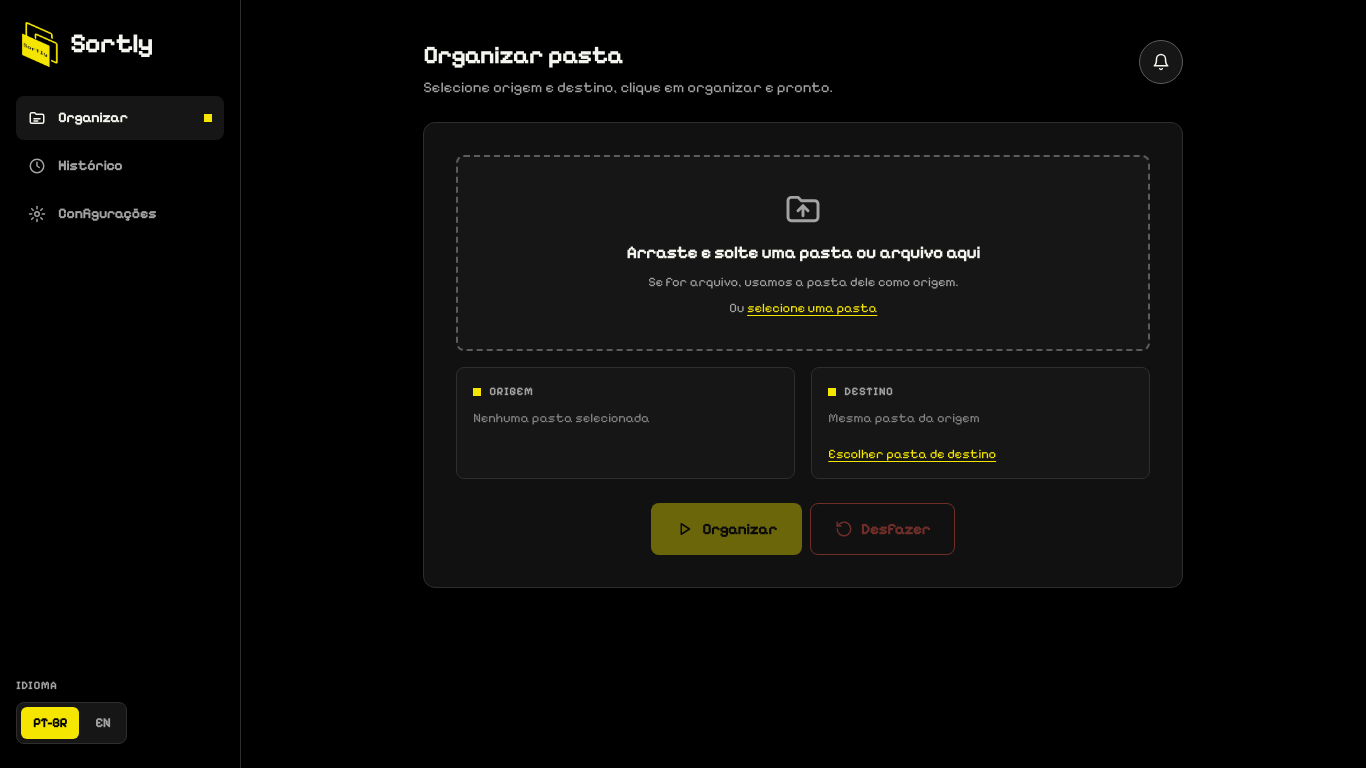
Test: OrganizerView › o sino abre o painel; trocar de página o fecha
Click the button named "Notificações" at (1161, 62), box [1139,40,1183,84]
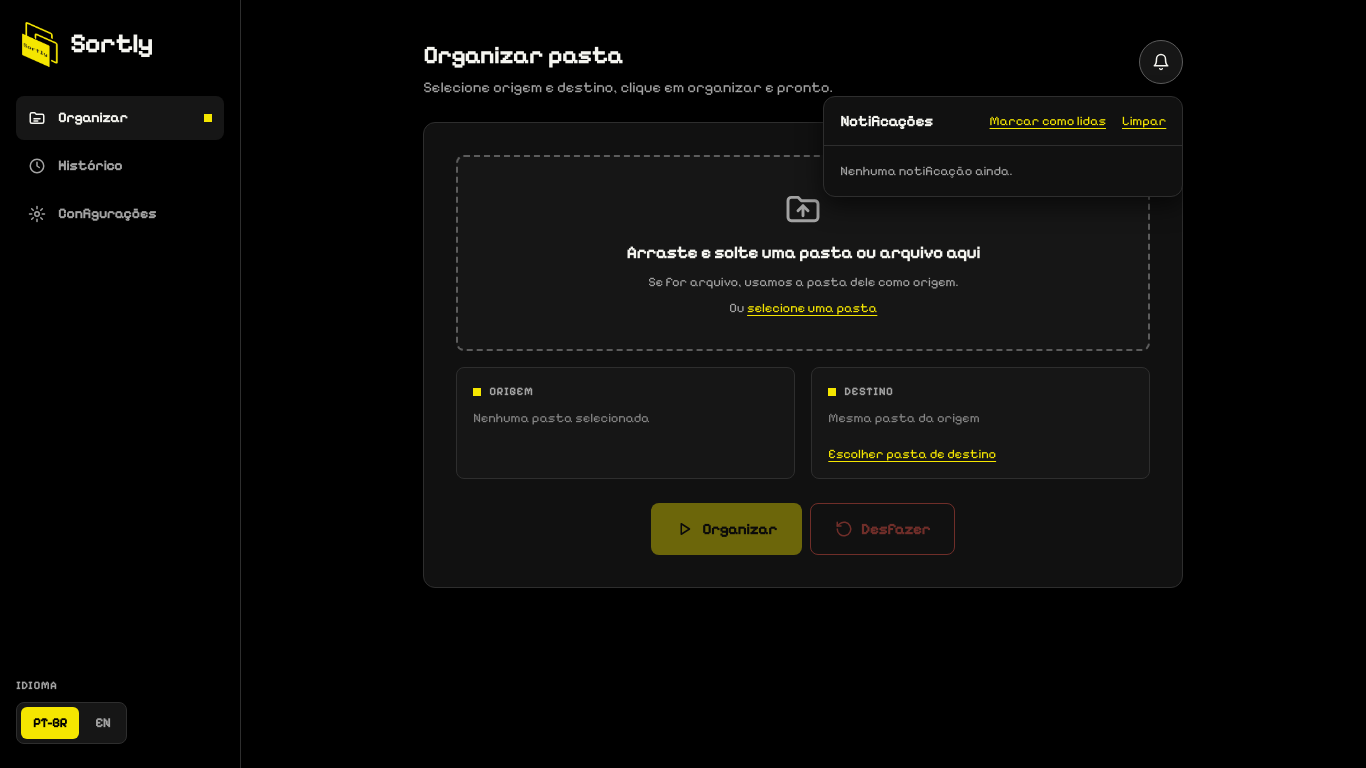
Check: the dialog "Notificações" is shown, box [823,96,1183,197]
Click the button "Configurações" at (120, 214), box [16,192,224,236]
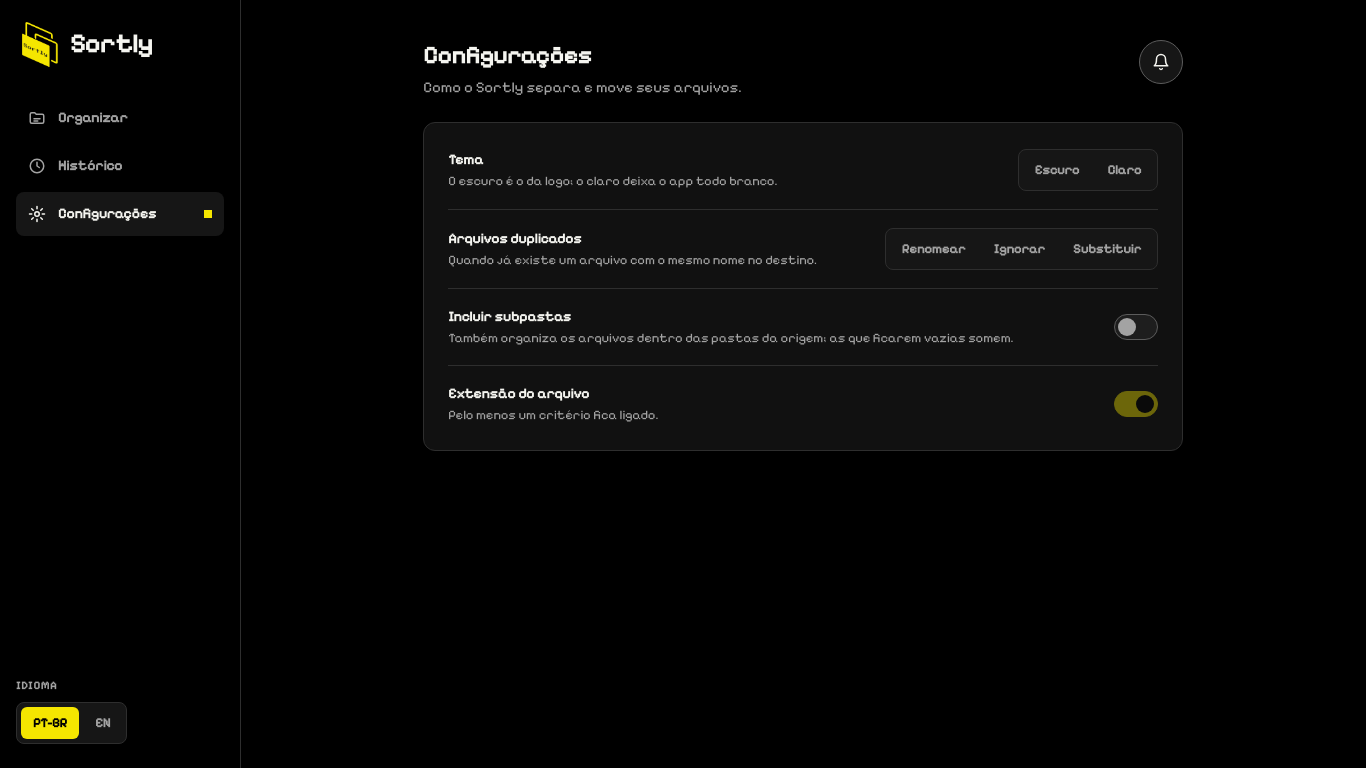
Check: the dialog is gone
